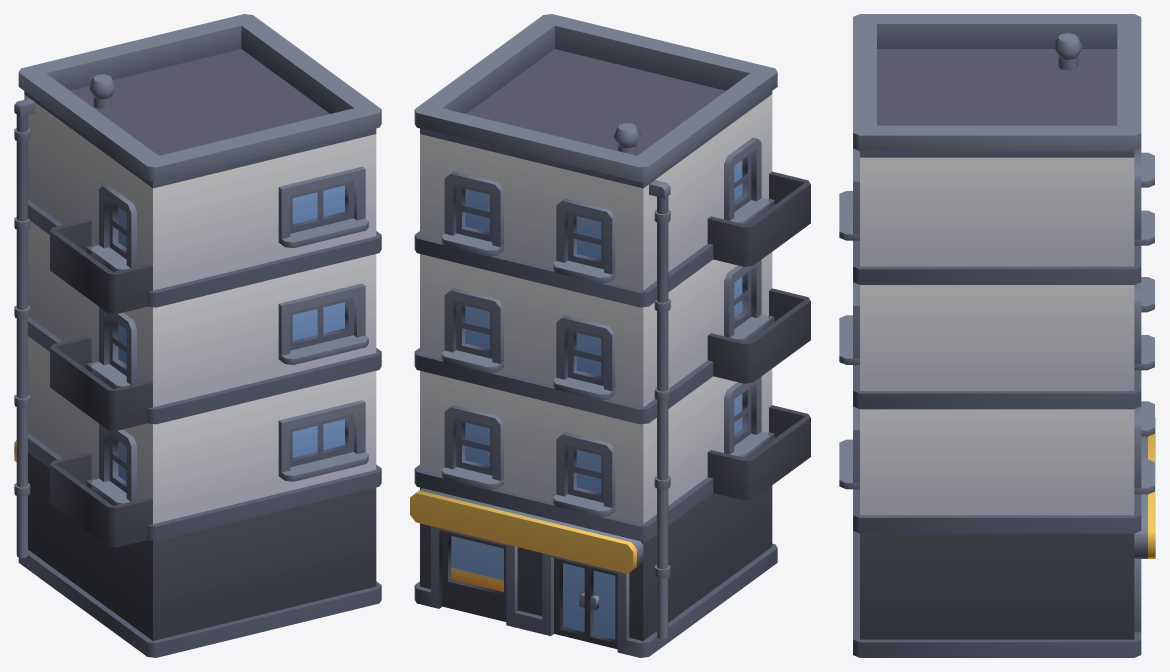
File: building-g.glb
3 renders of one model, left to right at view 1: azimuth 30°, elevation 25°; view 2: azimuth 150°, elevation 25°; view 3: azimuth 270°, elevation 25°, orthographic. The views are drawn at different scales.
Visible parts, largest first — view 1: building-g; view 2: building-g; view 3: building-g.
Part boxes in pixels (box(x1,y1,x2,y2)): building-g: box(14, 14, 381, 657); building-g: box(410, 14, 810, 657); building-g: box(839, 14, 1155, 657).
Size of the model in its own units: 0.97 by 1.69 by 0.9221.
1 material, 1 textured.
